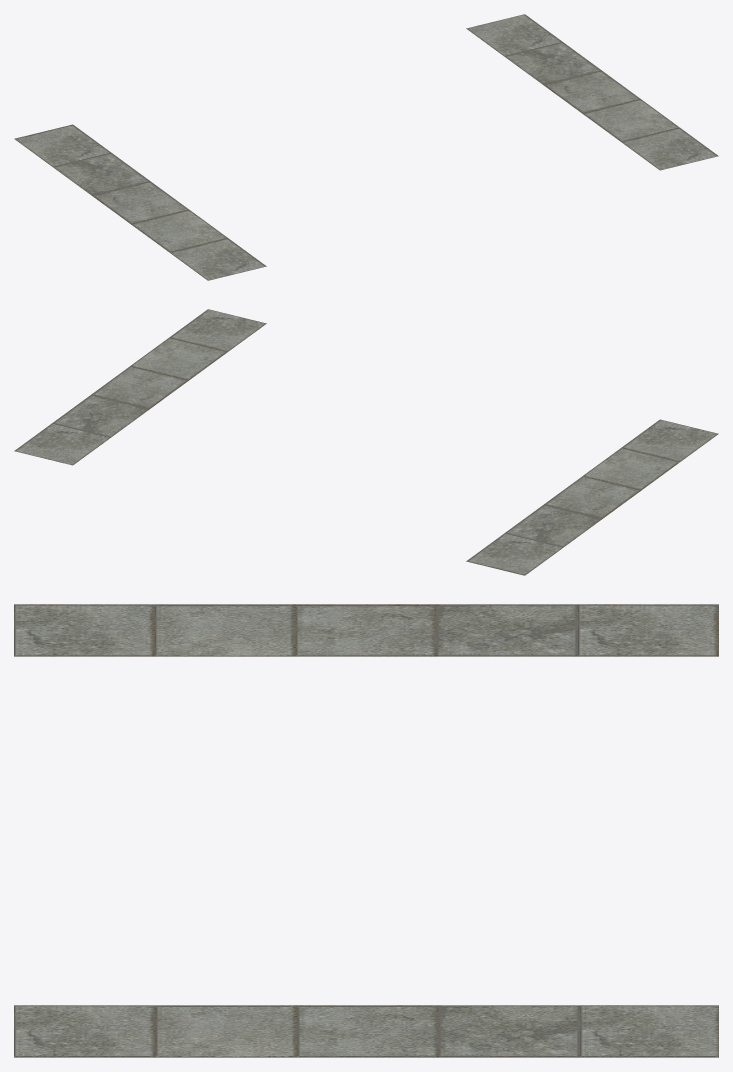
The model's file is arch_trim.fbx.
The picture shows the model from 3 angles, top to bottom: view 1: azimuth 30°, elevation 25°; view 2: azimuth 150°, elevation 25°; view 3: azimuth 270°, elevation 25°; orthographic projection. The views are drawn at different scales.
Visible parts, largest first — view 1: arch_trim; view 2: arch_trim; view 3: arch_trim.
Part boxes in pixels (left/top/right/bottom): arch_trim: left=14, top=14, right=718, bottom=280; arch_trim: left=14, top=309, right=718, bottom=575; arch_trim: left=14, top=604, right=718, bottom=1057.
Size of the model in its own units: 260 by 1.29e-05 by 171.
